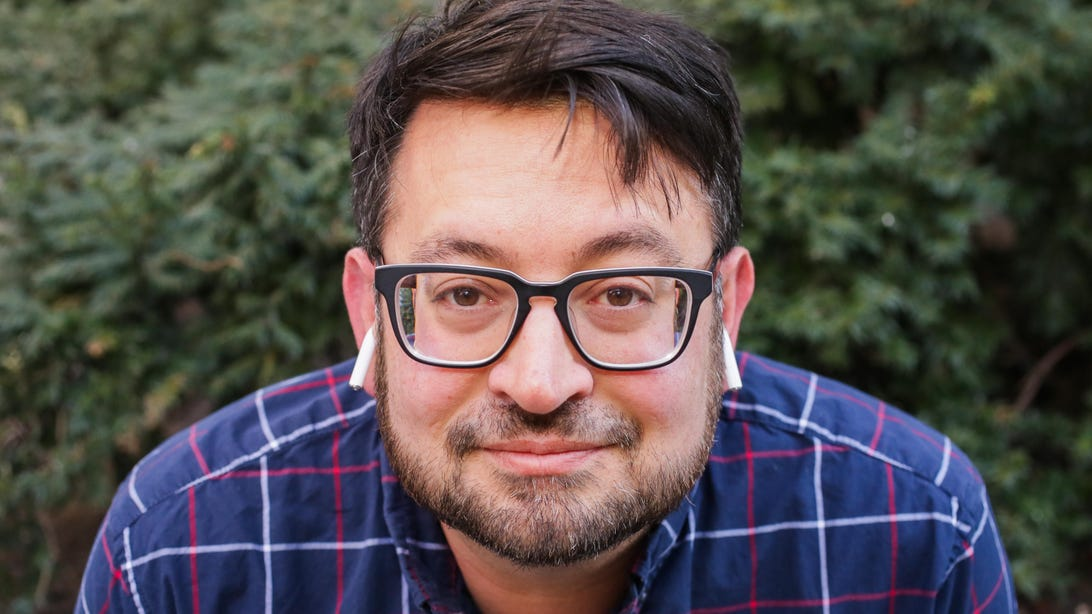earphone: (343, 247, 390, 394), (713, 246, 755, 386)
